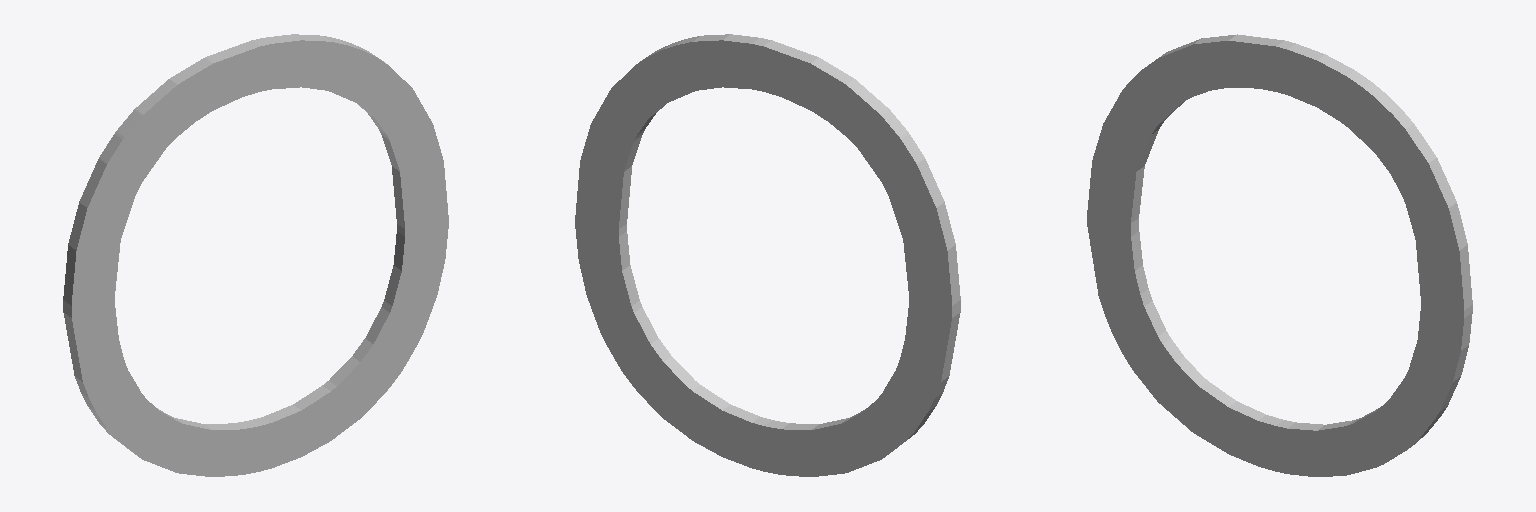
The model's file is O_UPPER.obj.
3 views of the same model, side by side, from view 1: azimuth 30°, elevation 25°; view 2: azimuth 150°, elevation 25°; view 3: azimuth 330°, elevation 25° (orthographic).
Visible parts, largest first — view 1: default; view 2: default; view 3: default.
Part boxes in pixels (bbox=[...]): default: bbox=[63, 34, 448, 476]; default: bbox=[575, 34, 960, 476]; default: bbox=[1087, 34, 1472, 476].
Bounding box in the file's own units: 2.6 × 2.8 × 0.1.